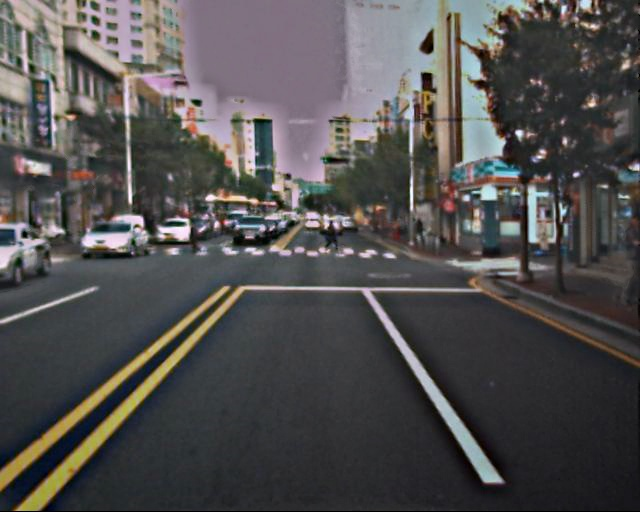person: (610, 217, 640, 312), (324, 218, 340, 258), (188, 224, 201, 255)
